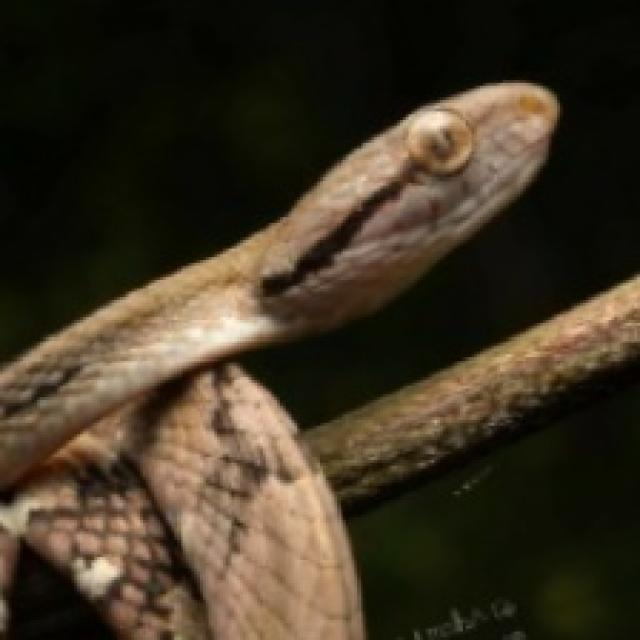dog-toothed cat snake: (0, 83, 554, 637)
